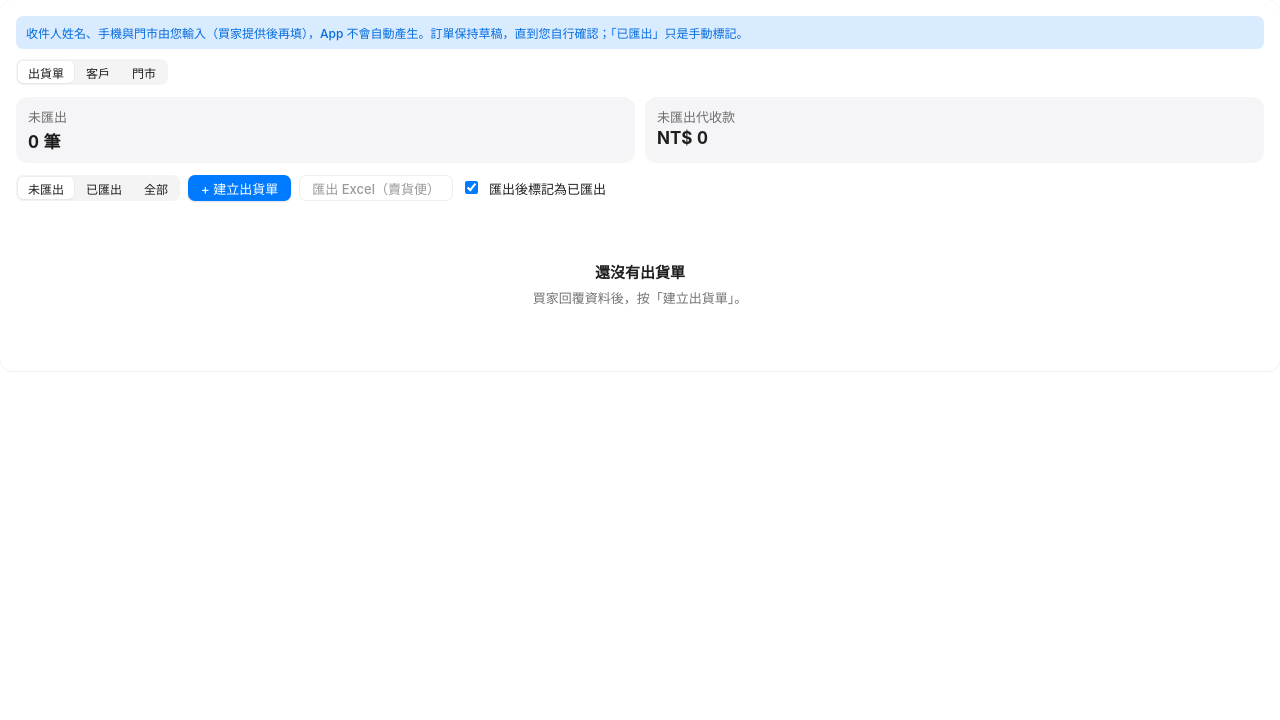
Scenario: ShipPage › customer list: create an order from a customer and copy the ask message
The width and height of the screenshot is (1280, 720).
What coordinates should you click on to do the following:
click the button "客戶"
I would click on:
 (98, 72)
Its box is [76, 61, 120, 83].
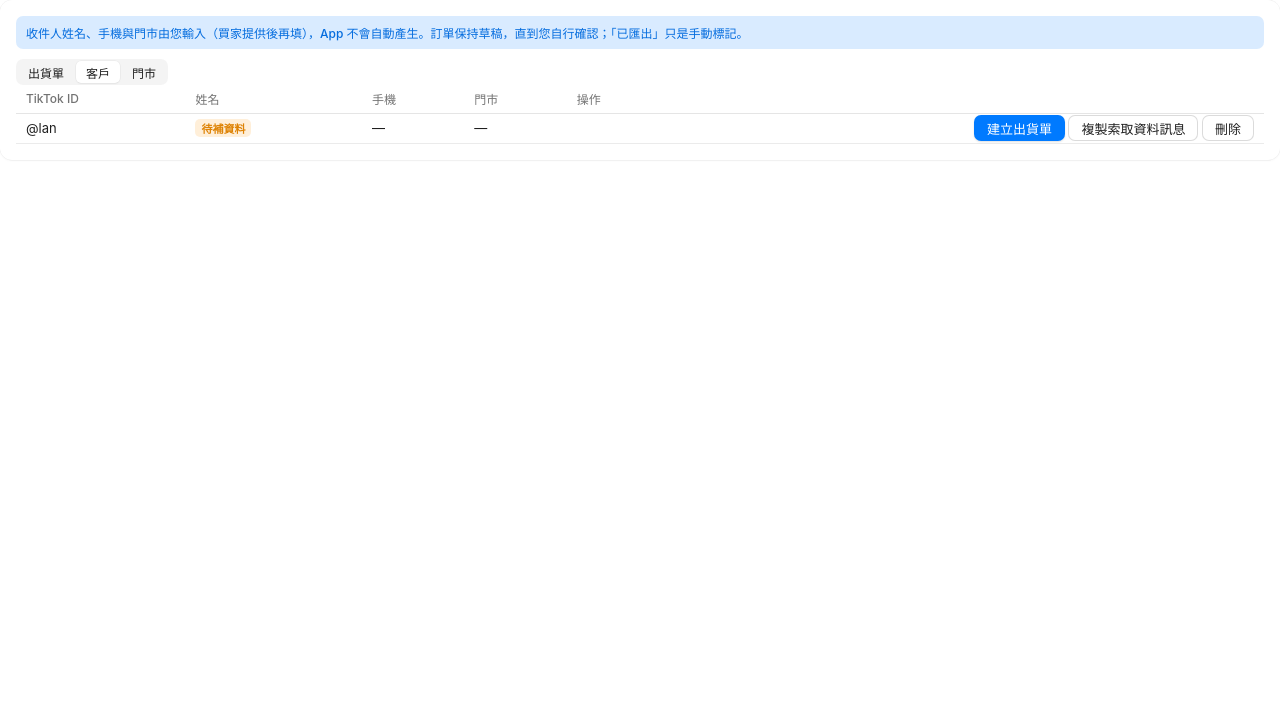
Expected: the text "待補資料" is shown, [195, 119, 251, 137]
What coordinates should you click on to do the following:
click the button "複製索取資料訊息"
I would click on:
 (1134, 128)
Its box is [1068, 115, 1198, 141].
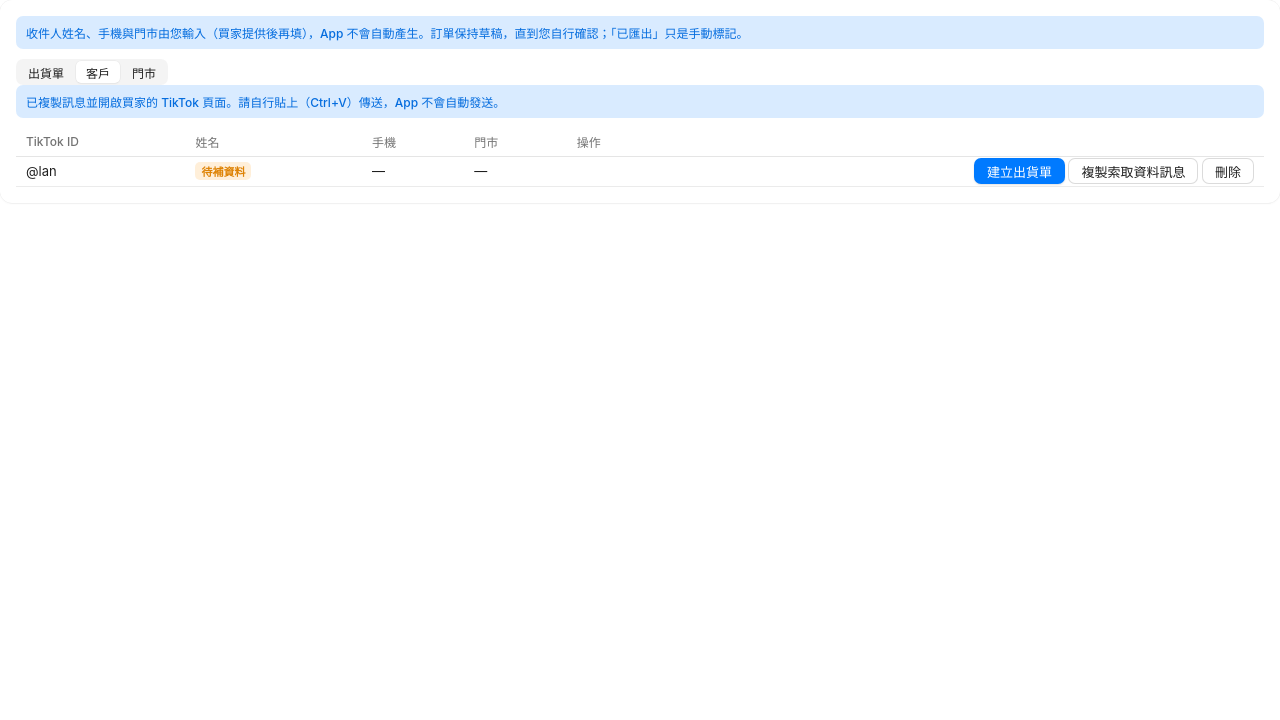
What coordinates should you click on to do the following:
click the button "建立出貨單"
I would click on:
 (1020, 171)
Its box is [974, 158, 1065, 184].
(page scrolled)
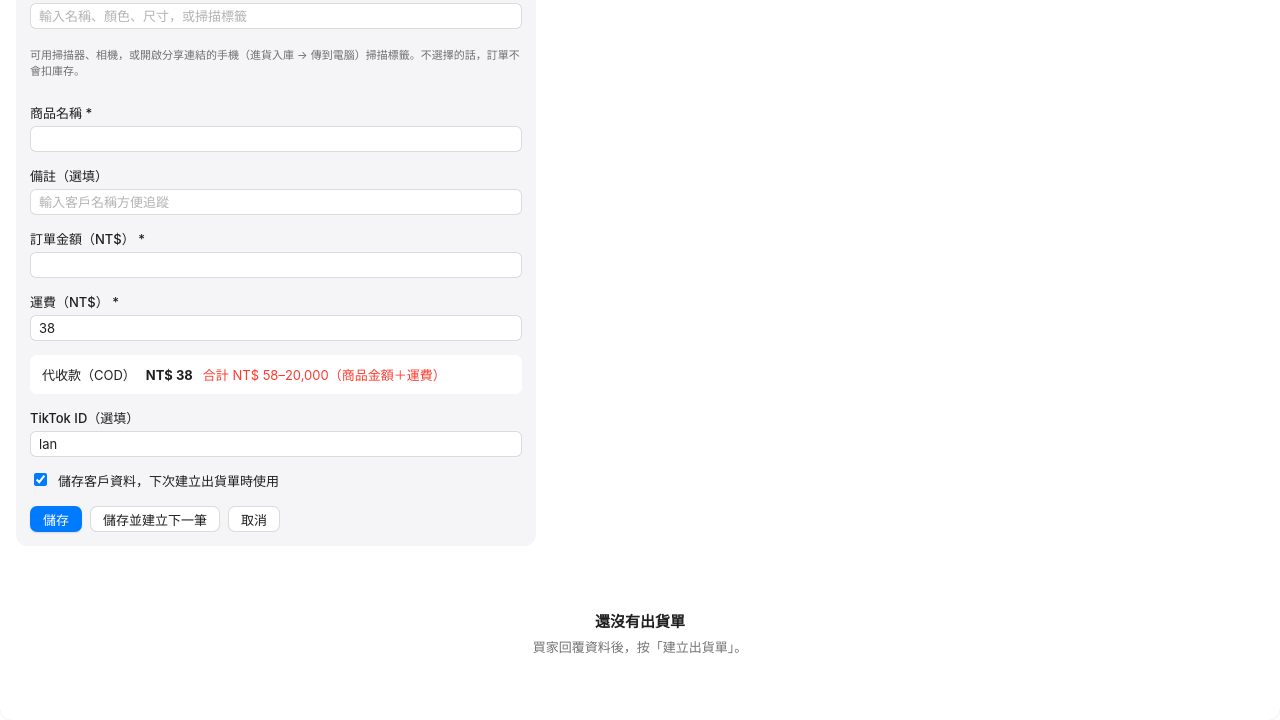
Expected: the field labelled "TikTok ID（選填）" holds "lan", [30, 431, 522, 457]
